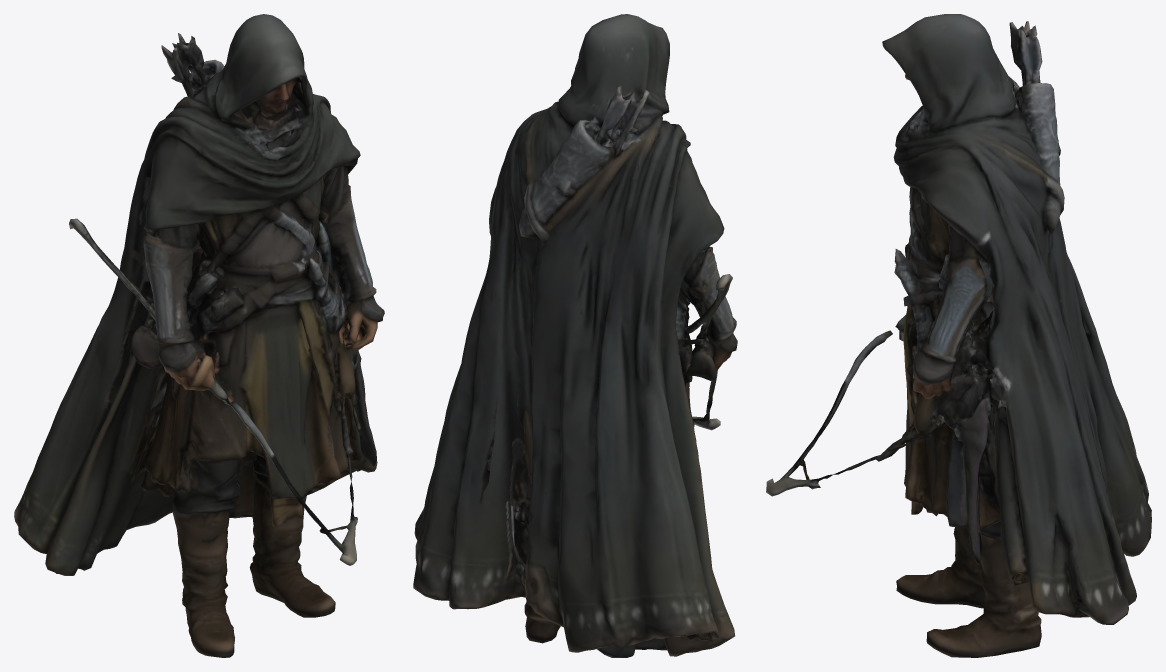
Rendered from Altaran.glb.
3 renders of one model, left to right at view 1: azimuth 30°, elevation 25°; view 2: azimuth 150°, elevation 25°; view 3: azimuth 270°, elevation 25°, orthographic.
Visible parts, largest first — view 1: Mesh1.0; view 2: Mesh1.0; view 3: Mesh1.0.
Boxes of the visible parts, x1,y1,x2,y2 form: Mesh1.0: (14, 14, 384, 657); Mesh1.0: (413, 14, 737, 657); Mesh1.0: (766, 14, 1151, 657).
Size of the model in its own units: 0.9688 by 1.7 by 0.9766.
Materials: 1 (1 with a texture image).
